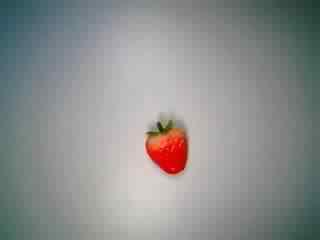strawberry: (133, 114, 199, 180)
